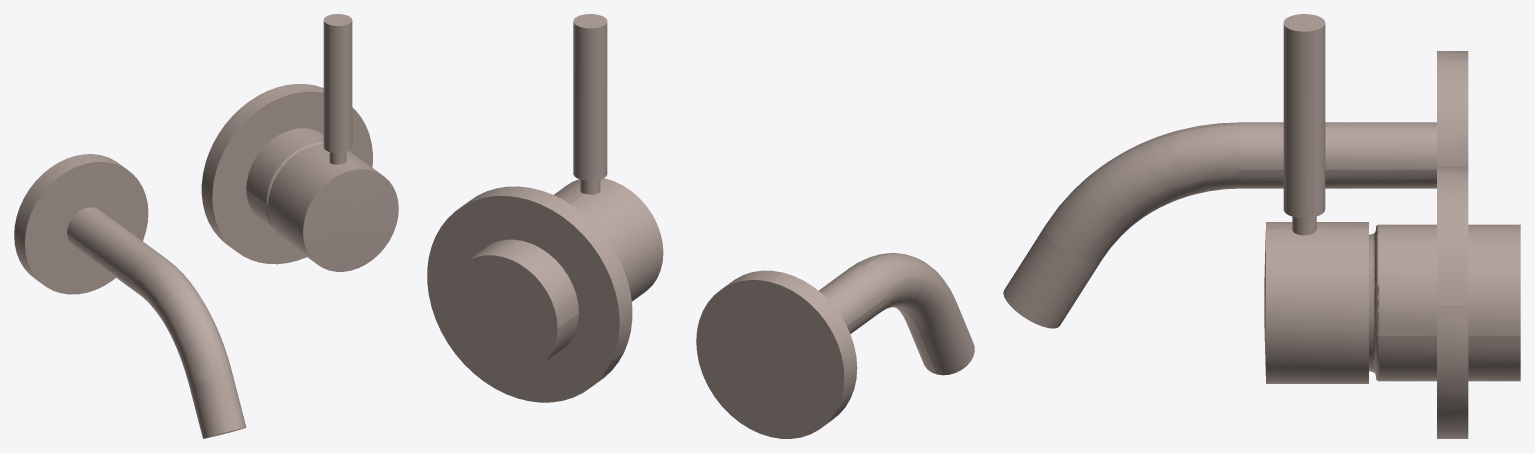
3 views of the same model, side by side, from view 1: azimuth 30°, elevation 25°; view 2: azimuth 150°, elevation 25°; view 3: azimuth 270°, elevation 25° (orthographic). The views are drawn at different scales.
Visible parts, largest first — view 1: empty_2, empty_5, empty_7, empty_3, empty_6, empty_4; view 2: empty_3, empty_7, empty_4, empty_2, empty_6, empty_5; view 3: empty_2, empty_4, empty_5, empty_6, empty_7, empty_3.
Part boxes in pixels (x1,y1,x2,y2): empty_2: (67, 207, 246, 438); empty_5: (268, 143, 398, 271); empty_7: (201, 84, 372, 264); empty_3: (14, 154, 148, 294); empty_6: (323, 14, 352, 164); empty_4: (246, 128, 323, 231); empty_3: (696, 270, 857, 438); empty_7: (427, 186, 632, 402); empty_4: (446, 239, 578, 374); empty_2: (819, 253, 974, 375); empty_6: (573, 14, 607, 194); empty_5: (554, 178, 663, 301); empty_2: (1003, 122, 1436, 328); empty_4: (1369, 224, 1520, 381); empty_5: (1264, 222, 1368, 383); empty_6: (1283, 14, 1325, 235); empty_7: (1437, 167, 1468, 438); empty_3: (1437, 51, 1468, 166).
Bounding box in the file's own units: 1.69 × 1.42 × 1.48.
